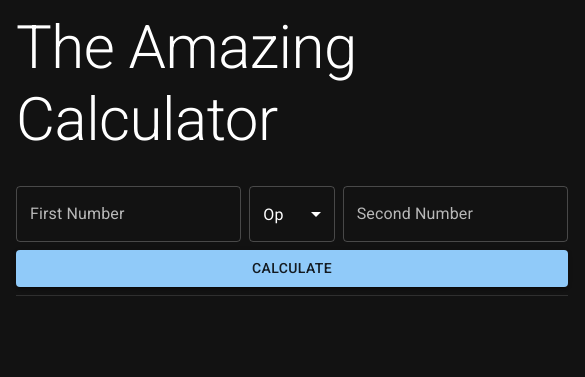
it: example to-do app › multiply two integers
The image size is (585, 377).
Type "3" into the field with id "first" at {"x": 129, "y": 214}, box [16,186,241,242]
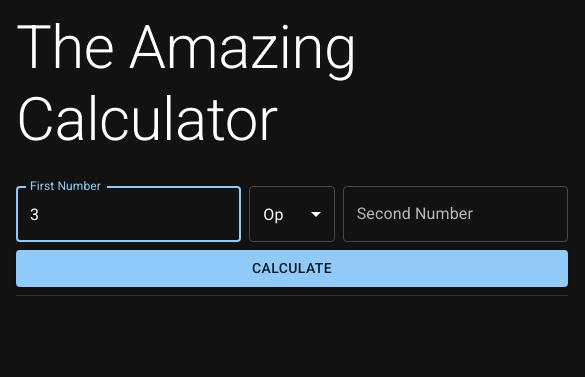
Type "9" into the field with id "second" at {"x": 456, "y": 214}, box [343,186,568,242]
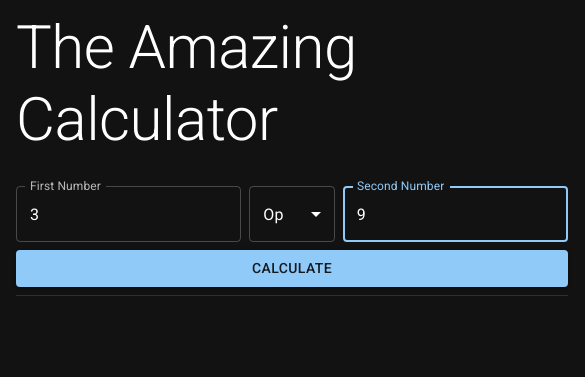
Select "*" in the dropdown with id "operation" at {"x": 292, "y": 214}, box [249,186,334,242]
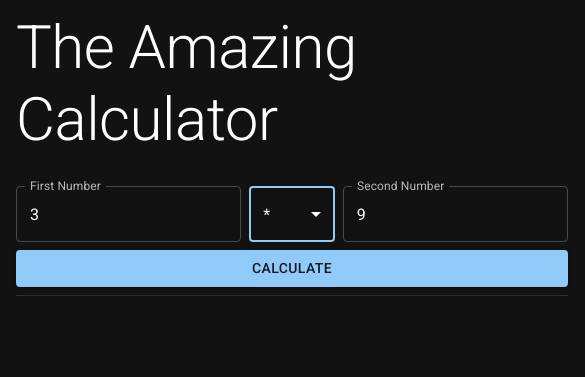
Click the button "Calculate" at {"x": 292, "y": 269}, box [16,250,568,287]
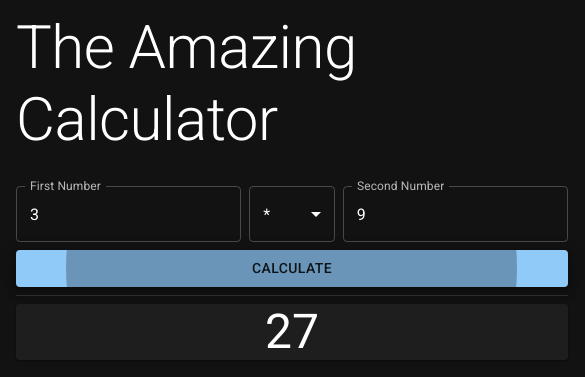
Check: the heading with id "result" reads "27", box [265,303,319,360]
